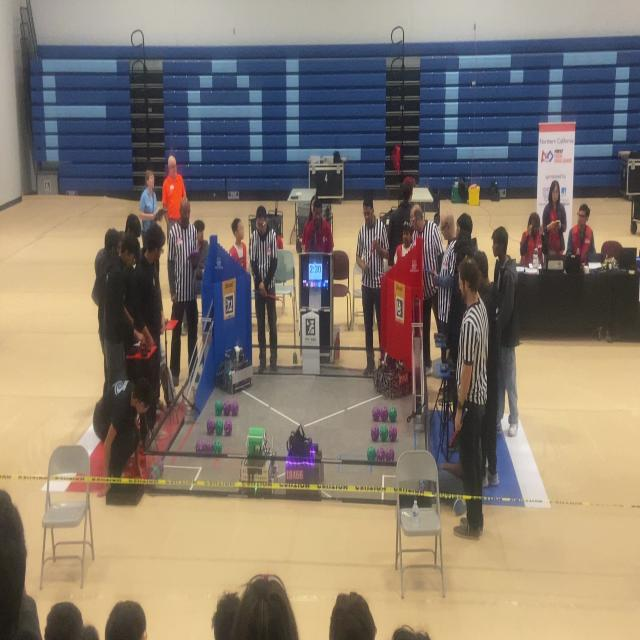artifact_green: (379, 424, 389, 442), (388, 406, 397, 423), (367, 446, 376, 462), (203, 440, 213, 453), (215, 419, 223, 435), (215, 400, 223, 415), (157, 459, 164, 476), (214, 440, 222, 453), (152, 465, 160, 478), (148, 470, 157, 480), (206, 441, 213, 453)
artifact_purple: (385, 447, 395, 462), (377, 446, 386, 462), (380, 424, 388, 442), (195, 439, 205, 453), (389, 425, 397, 442), (371, 425, 379, 441), (224, 420, 232, 436), (207, 419, 215, 435), (372, 406, 380, 421), (223, 400, 231, 415), (157, 459, 164, 476), (231, 401, 238, 416), (151, 465, 159, 478), (381, 407, 388, 421), (148, 470, 157, 480), (419, 480, 427, 491), (206, 441, 213, 453)
